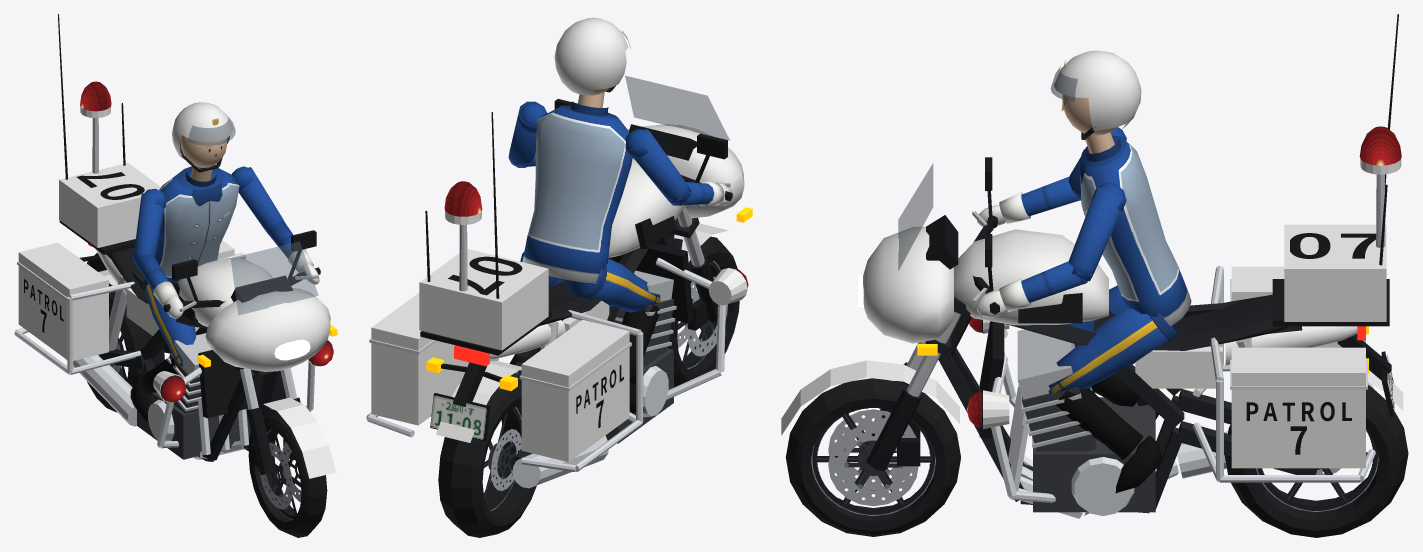
Rendered from police_shirobai.glb.
The picture shows the model from 3 angles, left to right: view 1: azimuth 30°, elevation 25°; view 2: azimuth 150°, elevation 25°; view 3: azimuth 270°, elevation 25°; orthographic projection. The views are drawn at different scales.
Parts seen in each view (by area): view 1: Body, Torso, Steer, WheelFront, Head, UpperArmR, WheelRear, UpperArmL, ThighR, ForearmR, ShinR, ForearmL; view 2: Body, Torso, WheelRear, Head, WheelFront, Steer, ThighR, UpperArmR, UpperArmL, ShinR, ForearmR; view 3: Body, WheelFront, Torso, WheelRear, Steer, Head, ThighL, ShinL, UpperArmL, ForearmL, ForearmR, ShinR.
Boxes of the visible parts, x1,y1,x2,y2 form: Body: (14,14,337,461); Torso: (155,166,239,283); Steer: (163,230,335,478); WheelFront: (248,409,327,537); Head: (172,102,235,172); UpperArmR: (133,188,166,261); WheelRear: (87,283,164,412); UpperArmL: (231,166,284,235); ThighR: (142,279,196,364); ForearmR: (134,254,183,318); ShinR: (130,357,182,422); ForearmL: (267,221,319,284); Body: (366,75,752,488); Torso: (522,92,632,284); WheelRear: (438,376,536,537); Head: (554,17,630,95); WheelFront: (668,236,739,387); Steer: (554,99,732,330); ThighR: (565,259,660,312); UpperArmR: (625,129,691,205); UpperArmL: (508,101,547,167); ShinR: (622,299,660,413); ForearmR: (668,181,730,206); Body: (858,14,1403,518); WheelFront: (785,378,960,536); Torso: (1080,132,1191,326); WheelRear: (1224,385,1408,537); Steer: (781,157,999,470); Head: (1050,50,1141,140); ThighL: (1048,307,1178,393); ShinL: (1048,387,1161,493); UpperArmL: (1069,183,1126,281); ForearmL: (977,261,1092,317); ForearmR: (977,177,1080,226); ShinR: (1091,373,1158,419).
Bounding box in the file's own units: 0.928 × 1.9 × 2.14.
28 materials, 10 textured.
